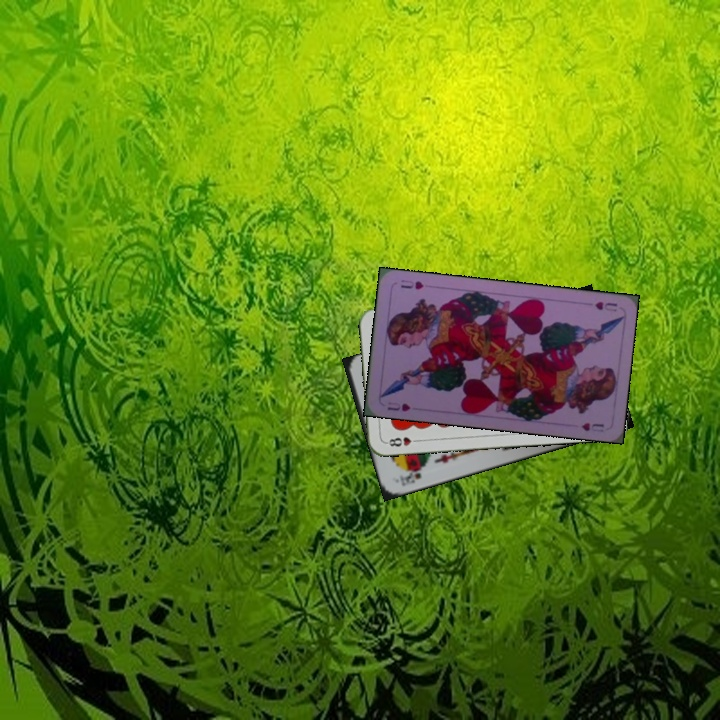H8: (382, 433, 423, 449)
HU: (591, 297, 620, 314), (383, 398, 413, 414)
SK: (396, 465, 424, 489)
